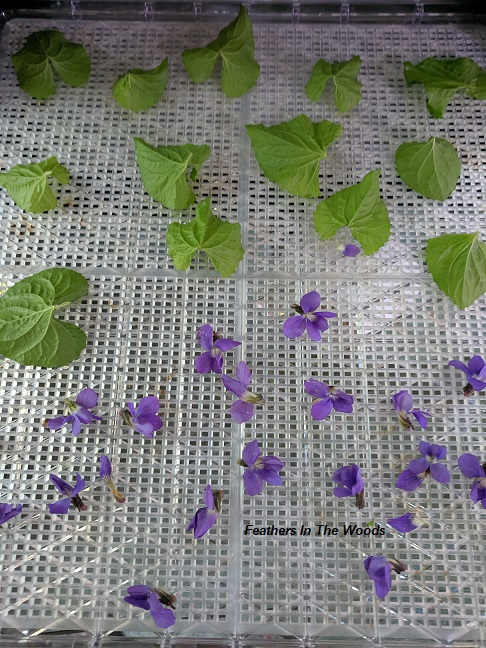violet: (116, 587, 182, 639), (34, 467, 90, 522), (119, 397, 175, 447), (393, 380, 438, 442), (300, 374, 358, 422), (317, 462, 373, 511), (280, 298, 338, 345), (184, 481, 219, 540), (410, 445, 456, 484), (189, 332, 236, 369), (59, 389, 98, 433), (450, 351, 486, 398), (364, 555, 402, 598)
